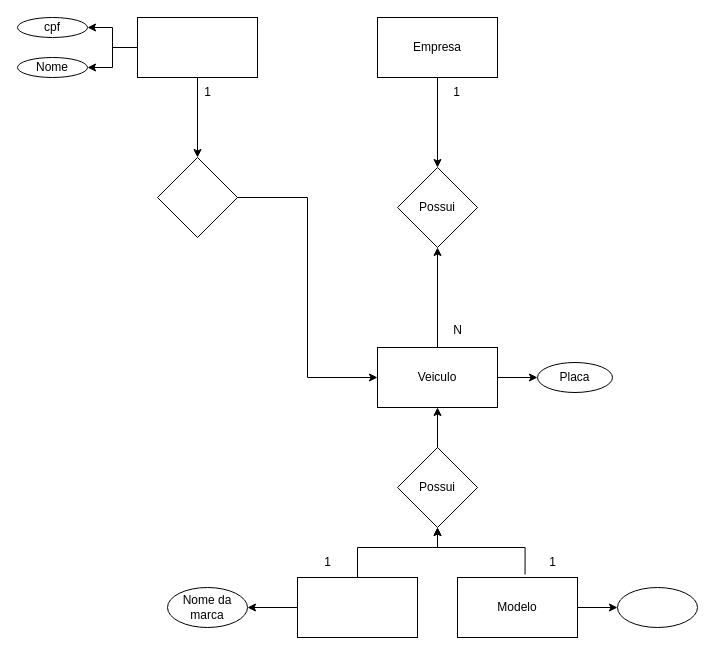
The diagram is 715 pixels wide and 655 high, and some of its shapes have lost their labels. Here are the shapes that lost their labels. From the top down, the centre of each, then its label:
At point 197,47: "Cliente".
At point 197,197: "Aluga".
At point 357,607: "Marca".
At point 657,607: "Nome do modelo".
